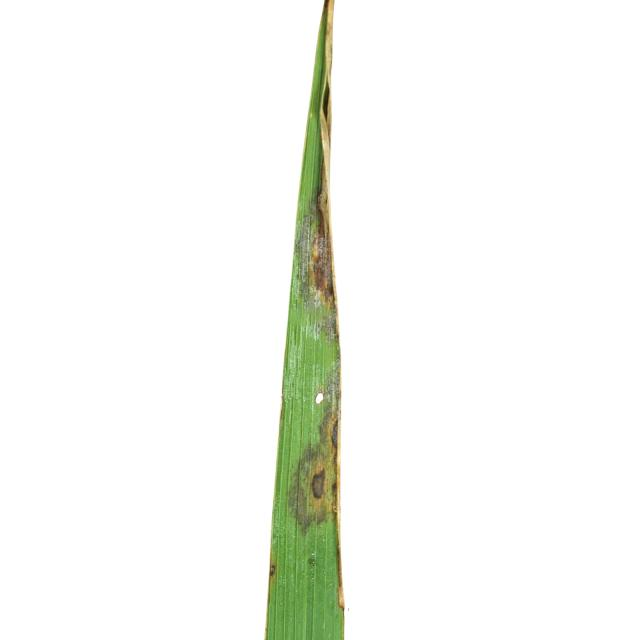Leaf scald: (178, 0, 540, 640)
